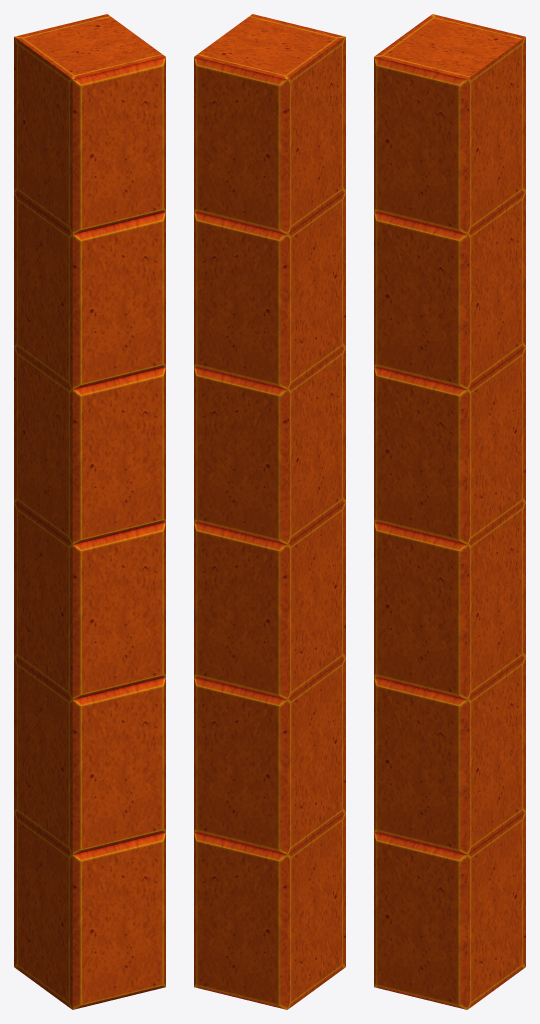
Rendered from Castle_Border_Column.fbx.
The picture shows the model from 3 angles, left to right: view 1: azimuth 30°, elevation 25°; view 2: azimuth 150°, elevation 25°; view 3: azimuth 330°, elevation 25°; orthographic projection.
Visible parts, largest first — view 1: Column_LOD0; view 2: Column_LOD0; view 3: Column_LOD0.
Part boxes in pixels (bbox=[...]): Column_LOD0: bbox=[14, 14, 165, 1009]; Column_LOD0: bbox=[194, 14, 345, 1009]; Column_LOD0: bbox=[374, 14, 525, 1009].
Size of what is drawn, in the model's own units: 79.25 by 755 by 94.77.
